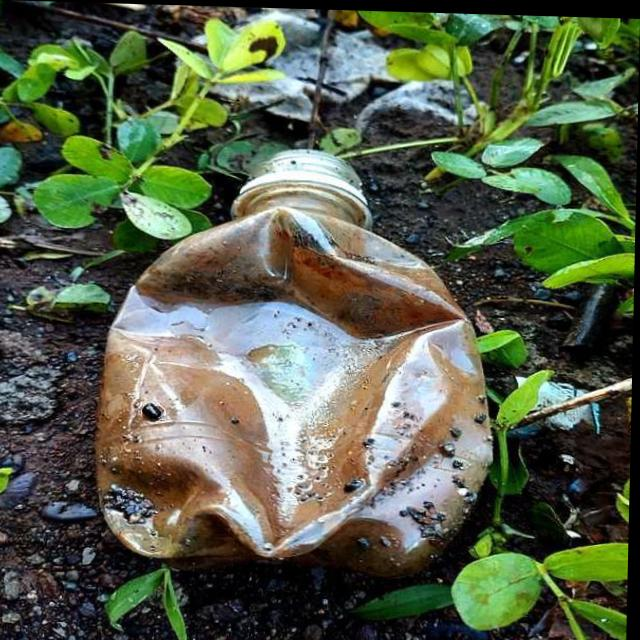Non-biodegradable: (90, 140, 501, 588)
